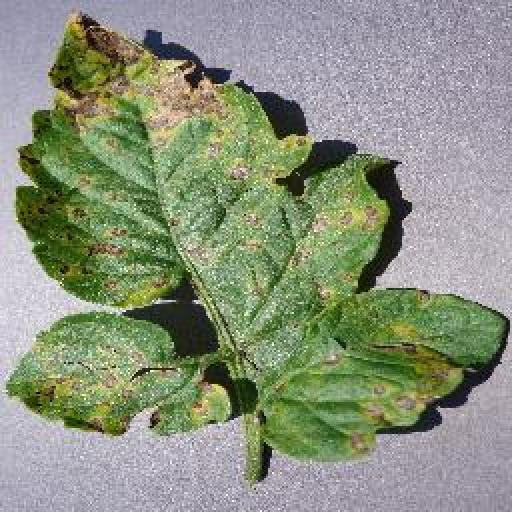disease_tomato: (9, 13, 508, 459)
